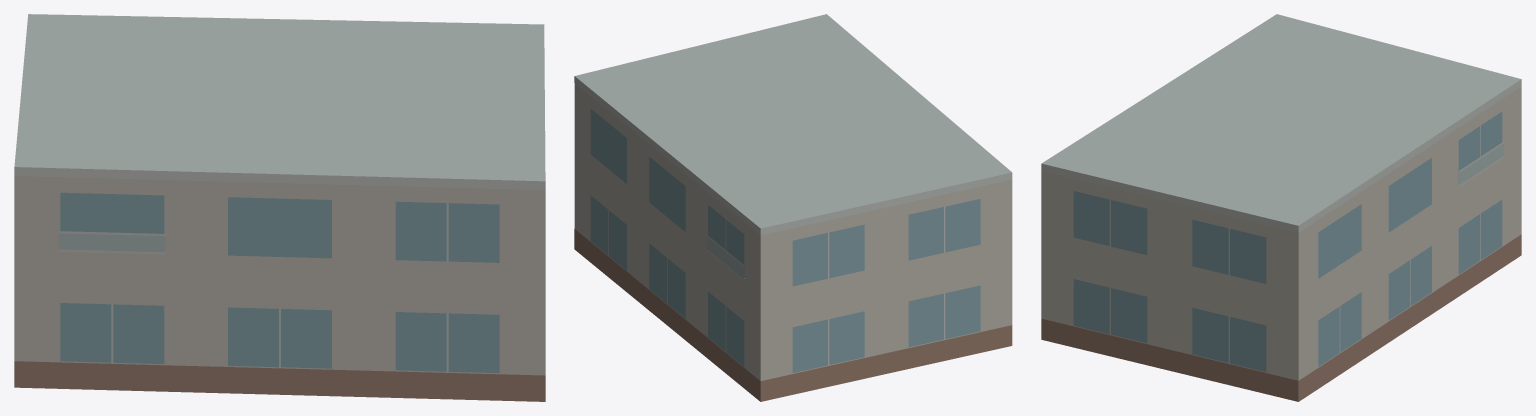
File: survey-upis-33034791.glb
3 views of the same model, side by side, from view 1: azimuth 30°, elevation 25°; view 2: azimuth 150°, elevation 25°; view 3: azimuth 270°, elevation 25° (orthographic). The views are drawn at different scales.
Visible parts, largest first — view 1: survey-upis-33034791.tmp; view 2: survey-upis-33034791.tmp; view 3: survey-upis-33034791.tmp.
Part boxes in pixels (x1,y1,x2,y2): survey-upis-33034791.tmp: (14, 14, 545, 401); survey-upis-33034791.tmp: (574, 14, 1012, 401); survey-upis-33034791.tmp: (1041, 14, 1521, 401).
Size of the model in its own units: 15.74 by 6.1 by 15.09.
